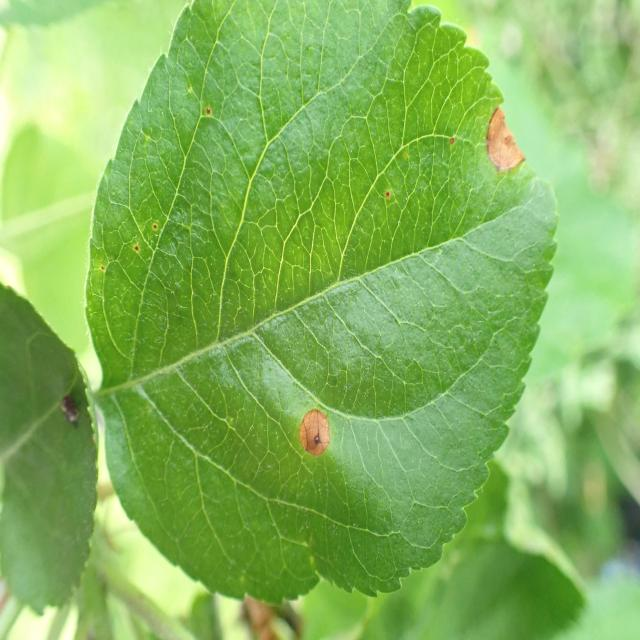Black Rot: (469, 78, 530, 188), (287, 399, 342, 481), (446, 115, 460, 161), (381, 187, 400, 213)
